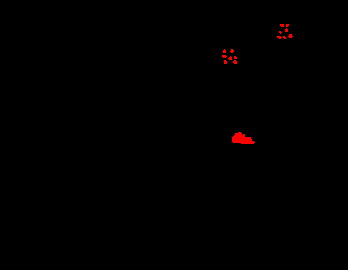Target: (232, 132, 255, 144), (288, 34, 293, 38), (230, 49, 234, 53), (228, 56, 232, 60), (233, 60, 237, 64), (277, 36, 282, 39), (222, 55, 227, 58), (280, 24, 284, 27), (285, 28, 288, 32), (223, 49, 226, 53), (224, 60, 227, 64), (286, 24, 289, 27), (279, 31, 282, 34), (283, 36, 286, 39), (234, 56, 237, 59)
